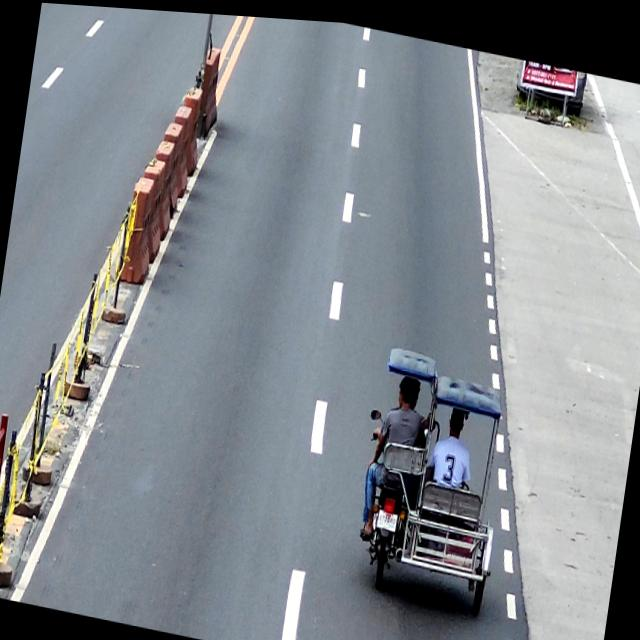License-Plate: (374, 505, 398, 528)
Tricycle: (348, 337, 518, 617)
